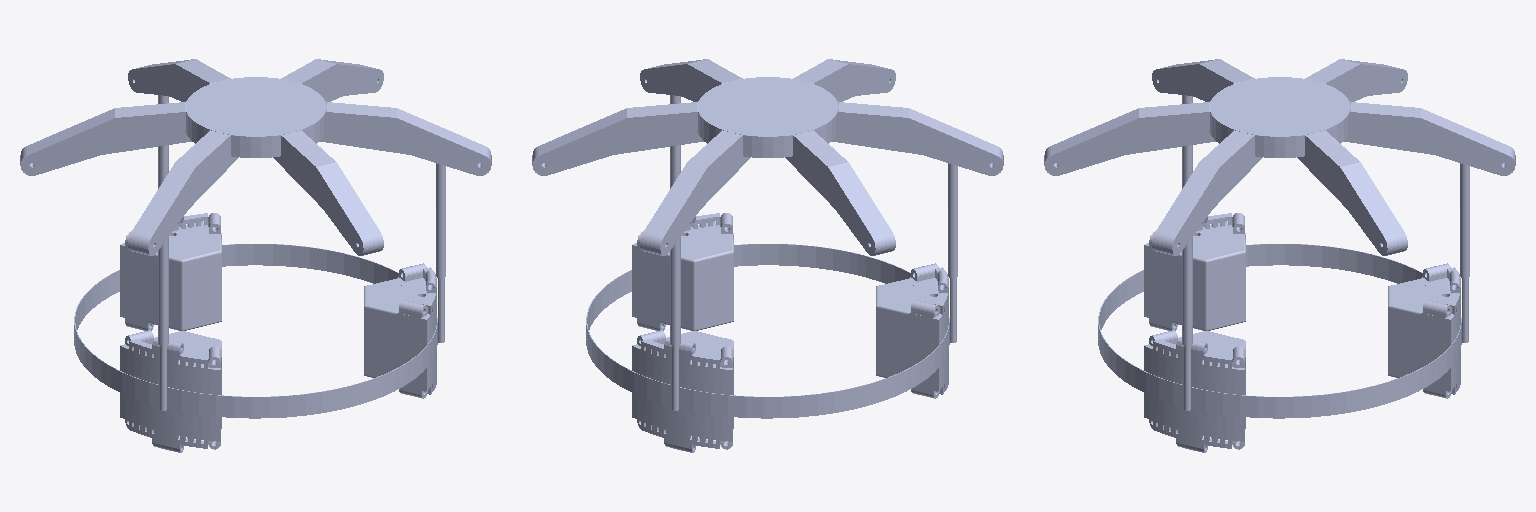
URDF robot description (SoftGrasperAssembly_SimplifiedTilt):
<?xml version="1.0" encoding="utf-8"?>
<!-- This URDF was automatically created by SolidWorks to URDF Exporter! Originally created by [author] ([email redacted]) 
     Commit Version: 1.6.0-4-g7f85cfe  Build Version: 1.6.7995.38578
     For more information, please see http://wiki.ros.org/sw_urdf_exporter -->
<robot
  name="SoftGrasperAssembly_SimplifiedTilt">
  <link
    name="base_link">
    <inertial>
      <origin
        xyz="2.4517E-17 -0.013906 4.1343E-16"
        rpy="0 0 0" />
      <mass
        value="0.26347" />
      <inertia
        ixx="0.00014637"
        ixy="1.0171E-18"
        ixz="-4.8057E-19"
        iyy="0.00027935"
        iyz="3.4898E-18"
        izz="0.00014637" />
    </inertial>
    <visual>
      <origin
        xyz="0 0 0"
        rpy="0 0 0" />
      <geometry>
        <mesh
          filename="package://SoftGrasperAssembly_SimplifiedTilt/meshes/base_link.STL" />
      </geometry>
      <material
        name="">
        <color
          rgba="0.79216 0.81961 0.93333 1" />
      </material>
    </visual>
    <collision>
      <origin
        xyz="0 0 0"
        rpy="0 0 0" />
      <geometry>
        <mesh
          filename="package://SoftGrasperAssembly_SimplifiedTilt/meshes/base_link.STL" />
      </geometry>
    </collision>
  </link>
  <link
    name="CylinderCons">
    <inertial>
      <origin
        xyz="-3.2048E-15 -0.02443 1.1831E-15"
        rpy="0 0 0" />
      <mass
        value="0.0026009" />
      <inertia
        ixx="7.883E-06"
        ixy="-2.8867E-21"
        ixz="-7.2813E-21"
        iyy="1.5503E-05"
        iyz="1.951E-20"
        izz="7.883E-06" />
    </inertial>
    <visual>
      <origin
        xyz="0 0 0"
        rpy="0 0 0" />
      <geometry>
        <mesh
          filename="package://SoftGrasperAssembly_SimplifiedTilt/meshes/CylinderCons.STL" />
      </geometry>
      <material
        name="">
        <color
          rgba="0.79216 0.81961 0.93333 1" />
      </material>
    </visual>
    <collision>
      <origin
        xyz="0 0 0"
        rpy="0 0 0" />
      <geometry>
        <mesh
          filename="package://SoftGrasperAssembly_SimplifiedTilt/meshes/CylinderCons.obj" />
      </geometry>
    </collision>
  </link>
  <joint
    name="BCC"
    type="prismatic">
    <origin
      xyz="0 0 -0.077479"
      rpy="1.5708 0 0" />
    <parent
      link="base_link" />
    <child
      link="CylinderCons" />
    <axis
      xyz="0 1 0" />
    <limit
      lower="-2.5"
      upper="2.5"
      effort="0"
      velocity="0" />
    <dynamics
      damping="0.1"
      friction="0.1" />
  </joint>
  <link
    name="SoftSupport1">
    <inertial>
      <origin
        xyz="-3.4902E-15 -6.088E-05 -0.0096819"
        rpy="0 0 0" />
      <mass
        value="0.020019" />
      <inertia
        ixx="2.8922E-06"
        ixy="2.1911E-21"
        ixz="1.5668E-20"
        iyy="3.6958E-06"
        iyz="-8.3292E-10"
        izz="5.9269E-06" />
    </inertial>
    <visual>
      <origin
        xyz="0 0 0"
        rpy="0 0 0" />
      <geometry>
        <mesh
          filename="package://SoftGrasperAssembly_SimplifiedTilt/meshes/SoftSupport1.STL" />
      </geometry>
      <material
        name="">
        <color
          rgba="0.79216 0.81961 0.93333 1" />
      </material>
    </visual>
    <collision>
      <origin
        xyz="0 0 0"
        rpy="0 0 0" />
      <geometry>
        <mesh
          filename="package://SoftGrasperAssembly_SimplifiedTilt/meshes/SoftSupport1.STL" />
      </geometry>
    </collision>
  </link>
  <joint
    name="LinearJaw1"
    type="prismatic">
    <origin
      xyz="0 -0.027244 -0.059827"
      rpy="0 0 0" />
    <parent
      link="CylinderCons" />
    <child
      link="SoftSupport1" />
    <axis
      xyz="0 0 1" />
    <limit
      lower="0"
      upper="0.028"
      effort="0"
      velocity="0" />
    <dynamics
      damping="0.1"
      friction="0.1" />
  </joint>
  <link
    name="SoftJaw1">
    <inertial>
      <origin
        xyz="-3.4765E-15 0 -0.054391"
        rpy="0 0 0" />
      <mass
        value="0.015121" />
      <inertia
        ixx="1.7236E-06"
        ixy="-3.9044E-22"
        ixz="-2.0905E-21"
        iyy="1.331E-06"
        iyz="9.9438E-22"
        izz="2.4259E-06" />
    </inertial>
    <visual>
      <origin
        xyz="0 0 0"
        rpy="0 0 0" />
      <geometry>
        <mesh
          filename="package://SoftGrasperAssembly_SimplifiedTilt/meshes/SoftJaw1.STL" />
      </geometry>
      <material
        name="">
        <color
          rgba="0.79216 0.81961 0.93333 1" />
      </material>
    </visual>
    <collision>
      <origin
        xyz="0 0 0"
        rpy="0 0 0" />
      <geometry>
        <mesh
          filename="package://SoftGrasperAssembly_SimplifiedTilt/meshes/SoftJaw1.STL" />
      </geometry>
    </collision>
  </link>
  <joint
    name="SJ1"
    type="fixed">
    <origin
      xyz="0 0 0.0598266171208976"
      rpy="0 0 0" />
    <parent
      link="SoftSupport1" />
    <child
      link="SoftJaw1" />
    <axis
      xyz="0 0 0" />
  </joint>
  <link
    name="SoftSupport2">
    <inertial>
      <origin
        xyz="-5.0259E-09 -6.0879E-05 -0.0054921"
        rpy="0 0 0" />
      <mass
        value="0.020019" />
      <inertia
        ixx="2.8922E-06"
        ixy="2.1735E-13"
        ixz="2.0391E-13"
        iyy="3.6958E-06"
        iyz="-8.3305E-10"
        izz="5.9269E-06" />
    </inertial>
    <visual>
      <origin
        xyz="0 0 0"
        rpy="0 0 0" />
      <geometry>
        <mesh
          filename="package://SoftGrasperAssembly_SimplifiedTilt/meshes/SoftSupport2.STL" />
      </geometry>
      <material
        name="">
        <color
          rgba="0.79216 0.81961 0.93333 1" />
      </material>
    </visual>
    <collision>
      <origin
        xyz="0 0 0"
        rpy="0 0 0" />
      <geometry>
        <mesh
          filename="package://SoftGrasperAssembly_SimplifiedTilt/meshes/SoftSupport2.STL" />
      </geometry>
    </collision>
  </link>
  <joint
    name="LinearJaw2"
    type="prismatic">
    <origin
      xyz="-0.05544 -0.027244 0.032008"
      rpy="3.1416 1.0472 3.1416" />
    <parent
      link="CylinderCons" />
    <child
      link="SoftSupport2" />
    <axis
      xyz="0 0 1" />
    <limit
      lower="0"
      upper="0.028"
      effort="0"
      velocity="0" />
    <dynamics
      damping="0.1"
      friction="0.1" />
  </joint>
  <link
    name="SoftJaw2">
    <inertial>
      <origin
        xyz="6.7375E-11 1.3878E-17 -0.054391"
        rpy="0 0 0" />
      <mass
        value="0.015121" />
      <inertia
        ixx="1.7236E-06"
        ixy="-1.6175E-21"
        ixz="-1.0243E-14"
        iyy="1.331E-06"
        iyz="-2.1171E-22"
        izz="2.4259E-06" />
    </inertial>
    <visual>
      <origin
        xyz="0 0 0"
        rpy="0 0 0" />
      <geometry>
        <mesh
          filename="package://SoftGrasperAssembly_SimplifiedTilt/meshes/SoftJaw2.STL" />
      </geometry>
      <material
        name="">
        <color
          rgba="0.79216 0.81961 0.93333 1" />
      </material>
    </visual>
    <collision>
      <origin
        xyz="0 0 0"
        rpy="0 0 0" />
      <geometry>
        <mesh
          filename="package://SoftGrasperAssembly_SimplifiedTilt/meshes/SoftJaw2.STL" />
      </geometry>
    </collision>
  </link>
  <joint
    name="SJ2"
    type="fixed">
    <origin
      xyz="0 0 0.0640164433692816"
      rpy="0 0 0" />
    <parent
      link="SoftSupport2" />
    <child
      link="SoftJaw2" />
    <axis
      xyz="0 0 0" />
  </joint>
  <link
    name="SoftSupport3">
    <inertial>
      <origin
        xyz="5.0259E-09 -6.0879E-05 -0.031111"
        rpy="0 0 0" />
      <mass
        value="0.020019" />
      <inertia
        ixx="2.8922E-06"
        ixy="-2.1735E-13"
        ixz="-2.0391E-13"
        iyy="3.6958E-06"
        iyz="-8.3305E-10"
        izz="5.9269E-06" />
    </inertial>
    <visual>
      <origin
        xyz="0 0 0"
        rpy="0 0 0" />
      <geometry>
        <mesh
          filename="package://SoftGrasperAssembly_SimplifiedTilt/meshes/SoftSupport3.STL" />
      </geometry>
      <material
        name="">
        <color
          rgba="0.79216 0.81961 0.93333 1" />
      </material>
    </visual>
    <collision>
      <origin
        xyz="0 0 0"
        rpy="0 0 0" />
      <geometry>
        <mesh
          filename="package://SoftGrasperAssembly_SimplifiedTilt/meshes/SoftSupport3.STL" />
      </geometry>
    </collision>
  </link>
  <joint
    name="LinearJaw3"
    type="prismatic">
    <origin
      xyz="0.033253 -0.027244 0.019199"
      rpy="3.1416 -1.0472 3.1416" />
    <parent
      link="CylinderCons" />
    <child
      link="SoftSupport3" />
    <axis
      xyz="0 0 1" />
    <limit
      lower="0"
      upper="0.028"
      effort="0"
      velocity="0" />
    <dynamics
      damping="0.1"
      friction="0.1" />
  </joint>
  <link
    name="SoftJaw3">
    <inertial>
      <origin
        xyz="-6.7381E-11 -1.3878E-17 -0.054391"
        rpy="0 0 0" />
      <mass
        value="0.015121" />
      <inertia
        ixx="1.7236E-06"
        ixy="-1.6818E-21"
        ixz="1.0243E-14"
        iyy="1.331E-06"
        iyz="4.6028E-22"
        izz="2.4259E-06" />
    </inertial>
    <visual>
      <origin
        xyz="0 0 0"
        rpy="0 0 0" />
      <geometry>
        <mesh
          filename="package://SoftGrasperAssembly_SimplifiedTilt/meshes/SoftJaw3.STL" />
      </geometry>
      <material
        name="">
        <color
          rgba="0.79216 0.81961 0.93333 1" />
      </material>
    </visual>
    <collision>
      <origin
        xyz="0 0 0"
        rpy="0 0 0" />
      <geometry>
        <mesh
          filename="package://SoftGrasperAssembly_SimplifiedTilt/meshes/SoftJaw3.STL" />
      </geometry>
    </collision>
  </link>
  <joint
    name="SJ3"
    type="fixed">
    <origin
      xyz="0 0 0.038397"
      rpy="0 0 0" />
    <parent
      link="SoftSupport3" />
    <child
      link="SoftJaw3" />
    <axis
      xyz="0 0 0" />
  </joint>
</robot>

--- Facts derived from the render (not from the file) ---
The picture shows the robot from 3 angles, left to right: view 1: azimuth 30°, elevation 25°; view 2: azimuth 150°, elevation 25°; view 3: azimuth 270°, elevation 25°; orthographic projection.
Robot: SoftGrasperAssembly_SimplifiedTilt — 8 links, 7 joints (4 prismatic, 3 fixed); root link base_link; default pose: all joints at 0.
Visible links, largest first — view 1: base_link, CylinderCons, SoftSupport2, SoftJaw1, SoftSupport3, SoftSupport1, SoftJaw3, SoftJaw2; view 2: base_link, CylinderCons, SoftSupport1, SoftJaw3, SoftSupport2, SoftSupport3, SoftJaw2, SoftJaw1; view 3: base_link, CylinderCons, SoftSupport3, SoftJaw2, SoftSupport1, SoftSupport2, SoftJaw1, SoftJaw3.
Link boxes in pixels (box(x1,y1,x2,y2)): base_link: box(20, 59, 491, 345); CylinderCons: box(74, 244, 444, 418); SoftSupport2: box(120, 330, 221, 452); SoftJaw1: box(149, 235, 221, 330); SoftSupport3: box(397, 263, 436, 398); SoftSupport1: box(120, 213, 221, 330); SoftJaw3: box(364, 278, 402, 377); SoftJaw2: box(169, 331, 221, 355); base_link: box(532, 59, 1003, 345); CylinderCons: box(586, 244, 956, 418); SoftSupport1: box(632, 330, 733, 452); SoftJaw3: box(661, 235, 733, 330); SoftSupport2: box(909, 263, 948, 398); SoftSupport3: box(632, 213, 733, 330); SoftJaw2: box(876, 278, 914, 377); SoftJaw1: box(681, 331, 733, 355); base_link: box(1044, 59, 1515, 345); CylinderCons: box(1098, 244, 1468, 418); SoftSupport3: box(1144, 330, 1245, 452); SoftJaw2: box(1173, 235, 1245, 330); SoftSupport1: box(1421, 263, 1460, 398); SoftSupport2: box(1144, 213, 1245, 330); SoftJaw1: box(1388, 278, 1426, 377); SoftJaw3: box(1193, 331, 1245, 355).
Size in the robot's own frame: 0.1777 by 0.1995 by 0.1302 metres.
Meshes: 8 distinct files referenced, 8 mesh visuals loaded (8 binary STL).
